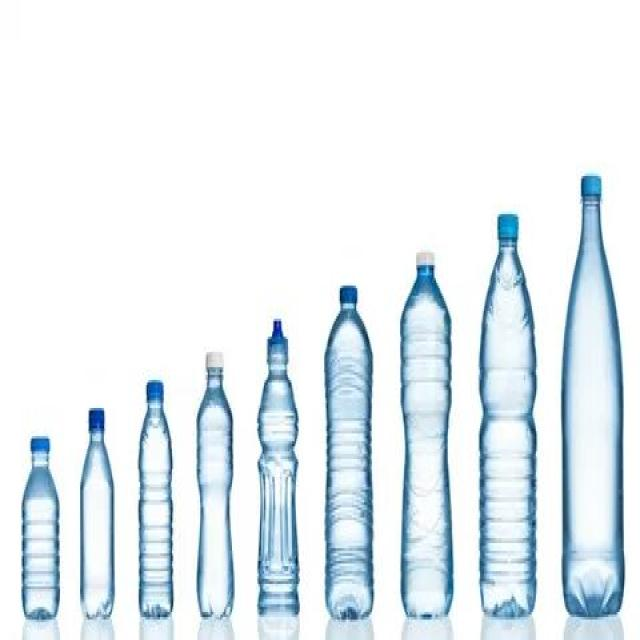blue: (564, 196, 624, 615), (479, 239, 538, 618), (399, 271, 454, 621), (325, 303, 372, 618), (257, 358, 301, 616), (198, 373, 234, 618), (138, 398, 174, 617), (80, 429, 115, 618), (23, 452, 59, 622)
